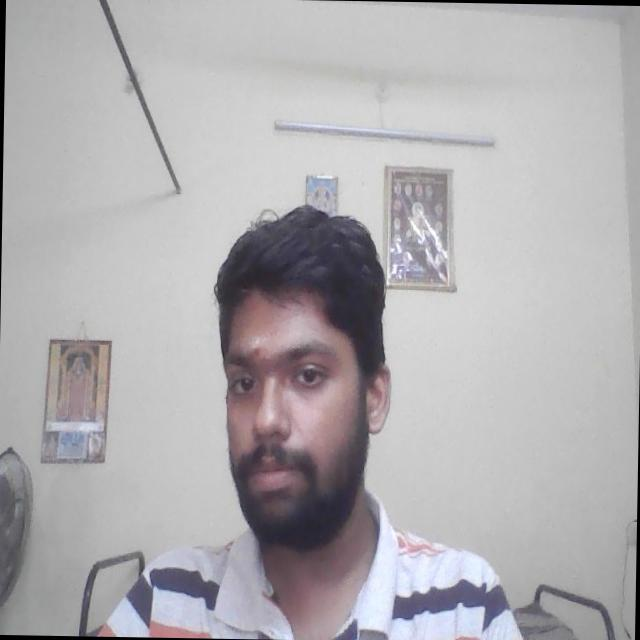Focused: (220, 316, 376, 524)
